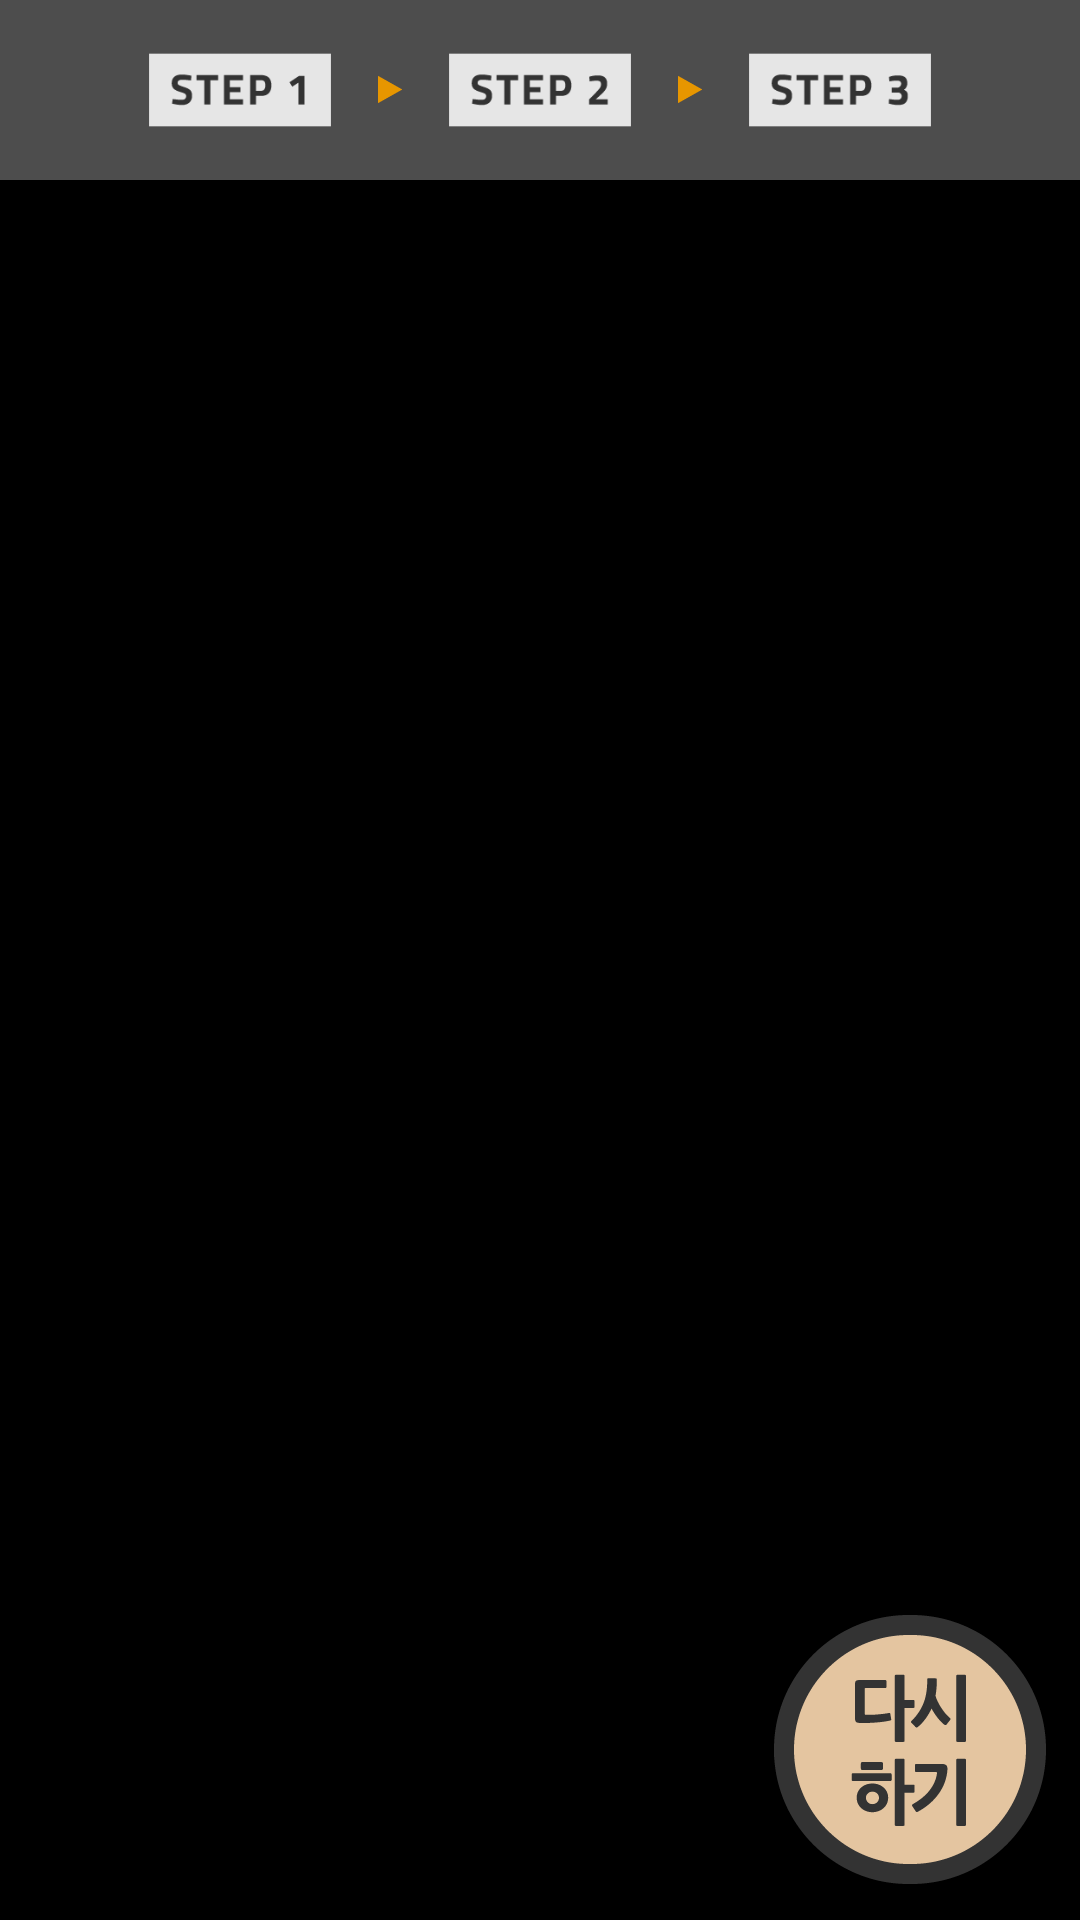

Locate icon controls on the screen. Image size 1080×1920, boxes as (x1, y1, x2, y2).
arrow: (378, 76, 402, 103), (678, 76, 702, 103)
